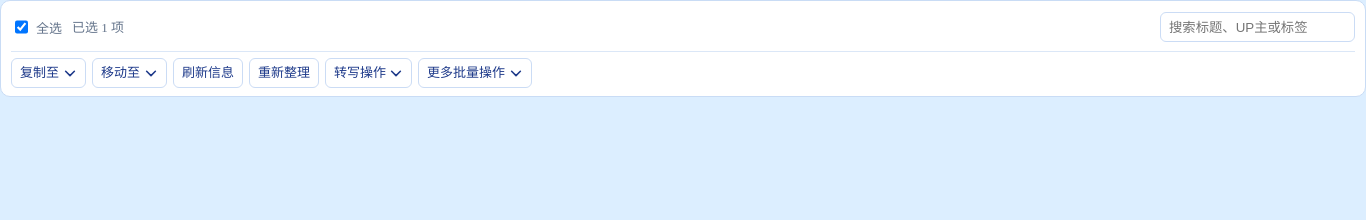
Favorite Library workspace components › can disable only cancel-waiting transcription when no selected item is pending
Click the button "转写操作".
click(369, 73)  # box [325,58,412,88]
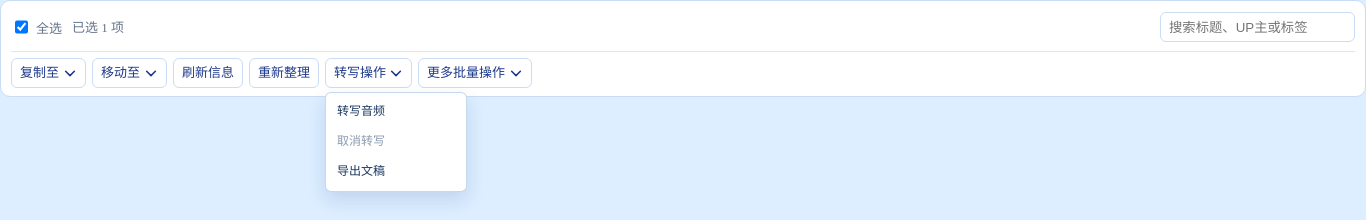
Now the menu item "取消转写" is disabled, box [330,127,462,157]
Now the menu item "转写音频" is enabled, box [330,97,462,127]
